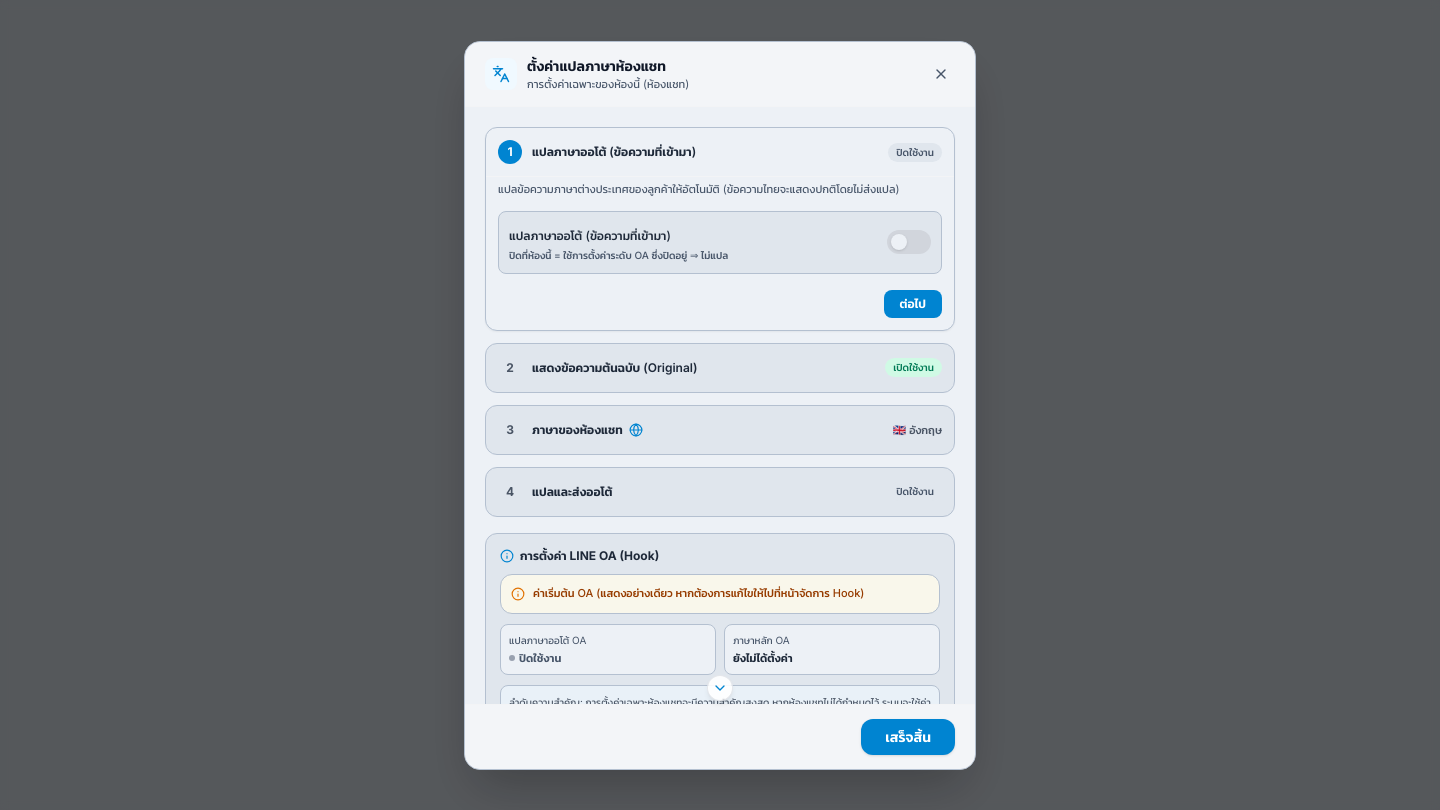
Test: [SHOWORIGSRC] one control at a time — the chosen option reveals its own › 🔴 deciding for itself: the room switch is there, the account control is NOT
What coordinates should you click on to do the following:
click the button with test id "room-wizard-step-2-btn"
I would click on:
 (615, 367)
Its box is top-left (486, 344), bottom-right (954, 392).
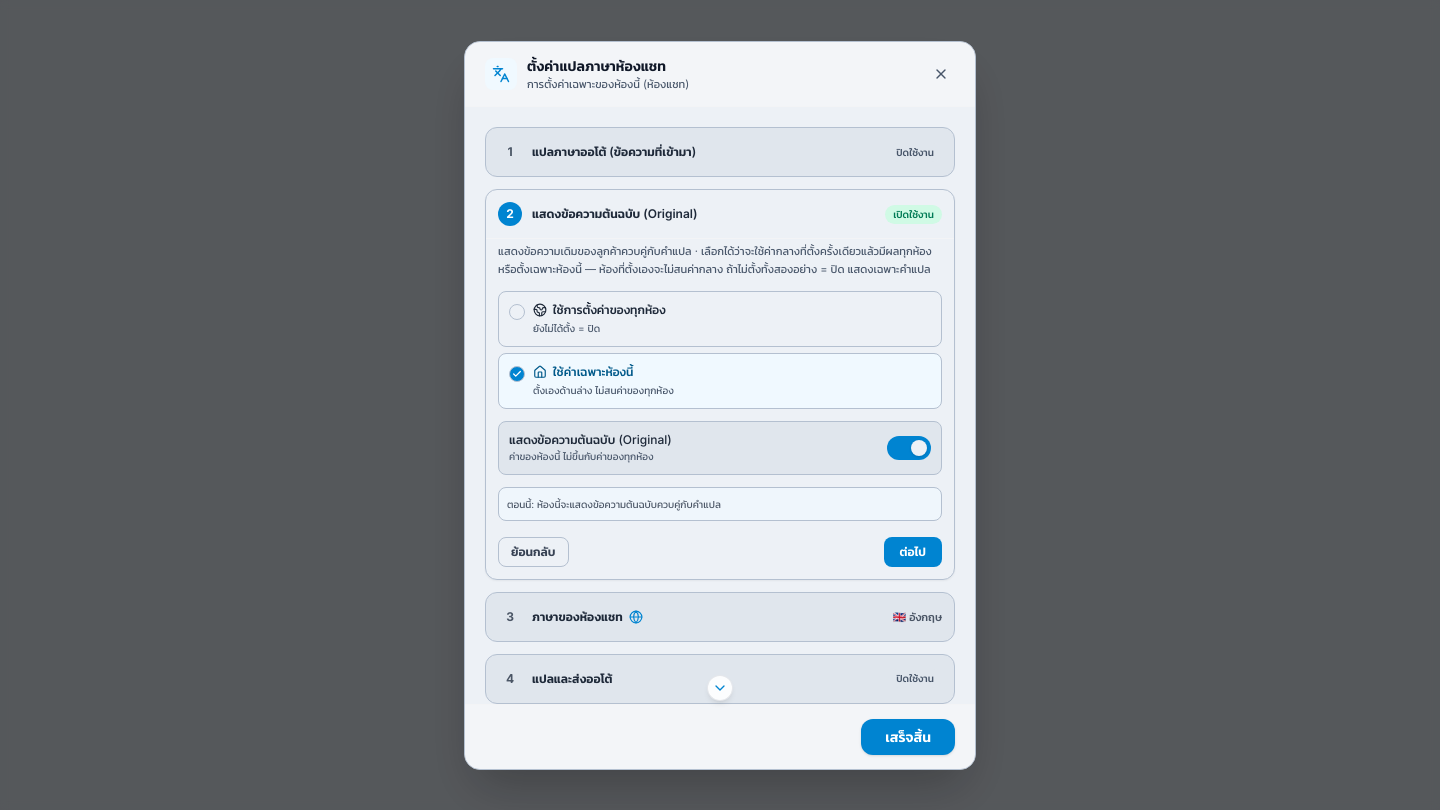
Result: the switch with test id "room-modal-show-original-toggle" is shown at top-left (887, 436), bottom-right (931, 460)
